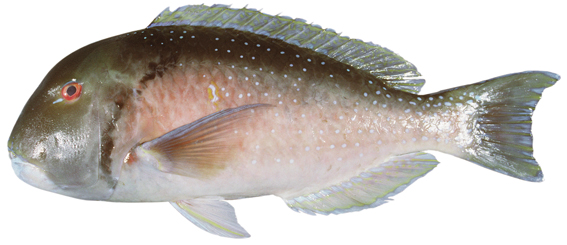fish: (8, 4, 560, 238)
